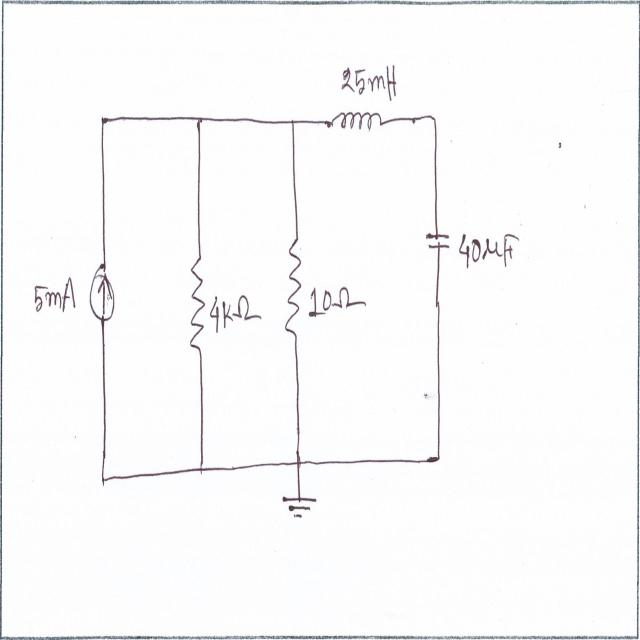capacitor: (422, 213, 452, 280)
current_source: (91, 251, 122, 351)
ground: (274, 484, 325, 538)
inductor: (325, 97, 388, 159)
resistor: (282, 228, 306, 352), (186, 256, 209, 370)
